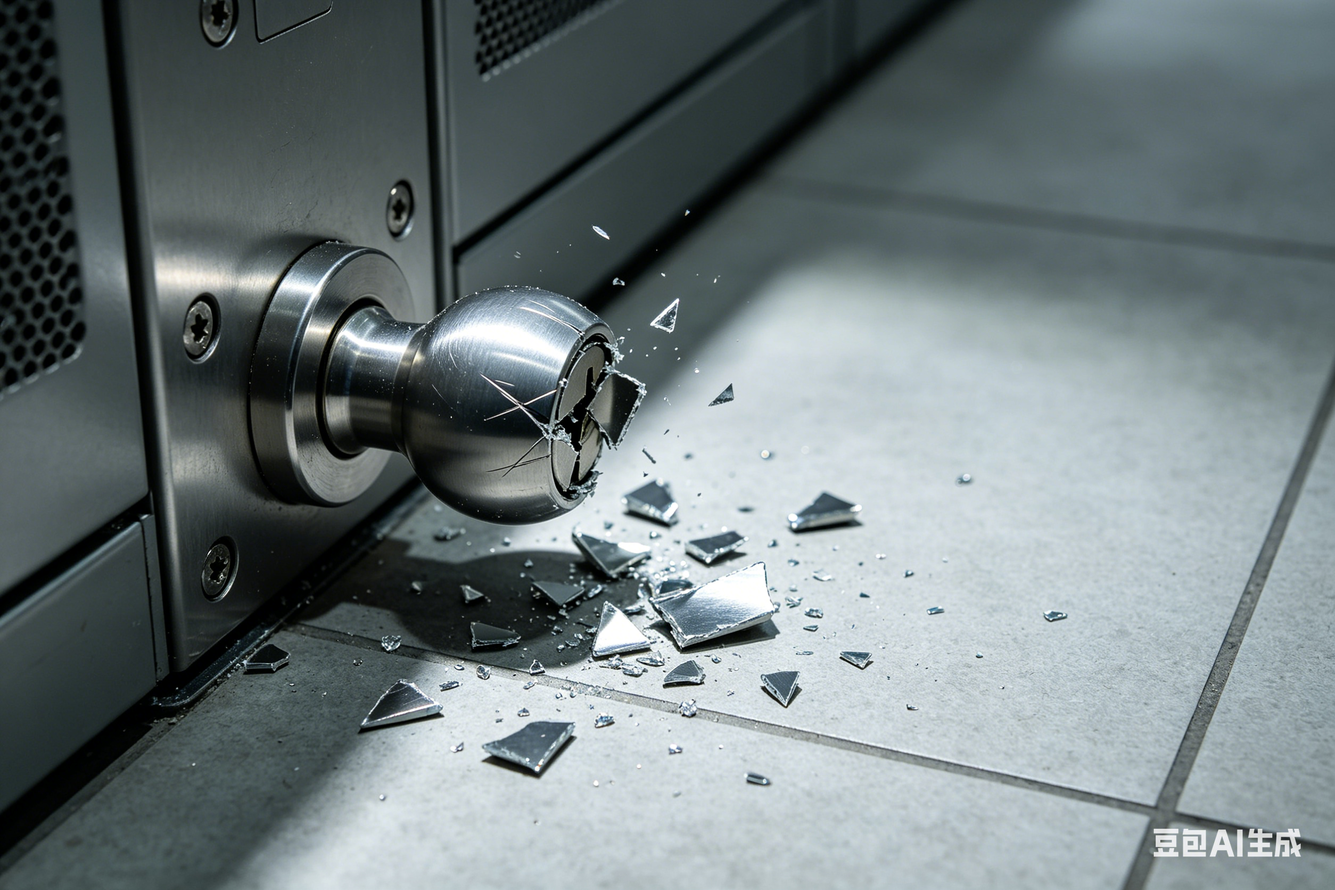BadLock: (558, 329, 644, 508)
